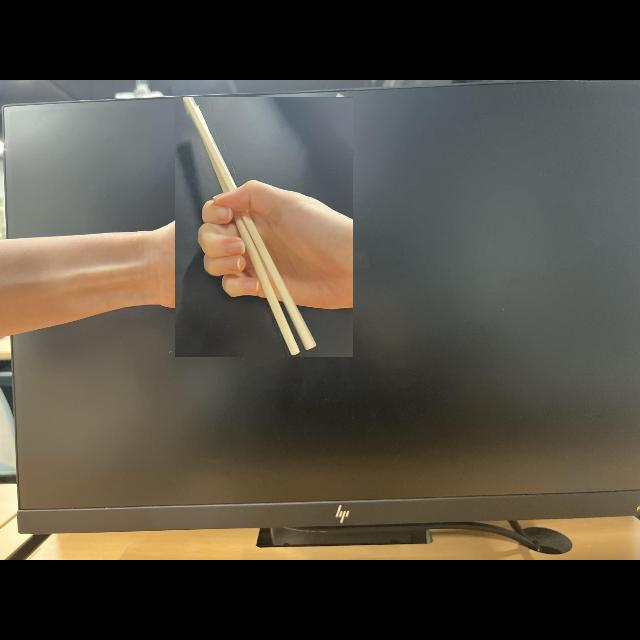stick: (175, 97, 352, 357)
